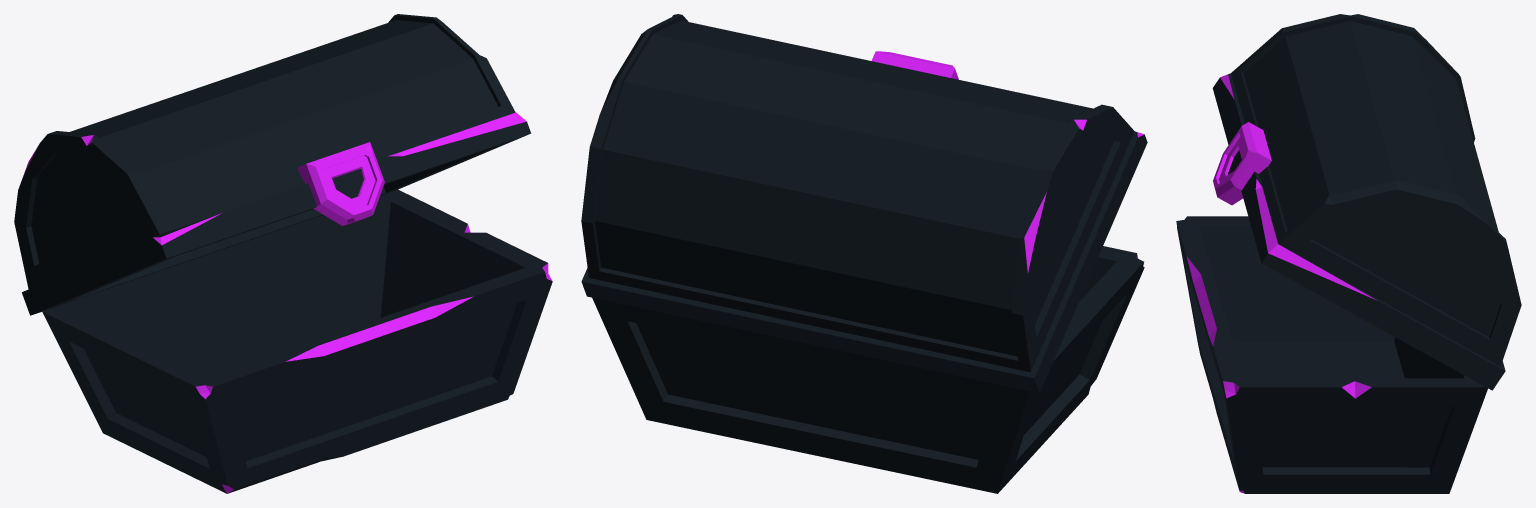
Rendered from chest.glb.
3 views of the same model, side by side, from view 1: azimuth 30°, elevation 25°; view 2: azimuth 150°, elevation 25°; view 3: azimuth 270°, elevation 25° (orthographic). The views are drawn at different scales.
Visible parts, largest first — view 1: Plane.001; view 2: Plane.001; view 3: Plane.001.
Part boxes in pixels (box(x1,y1,x2,y2)): Plane.001: box(14, 14, 552, 493); Plane.001: box(581, 14, 1147, 493); Plane.001: box(1176, 14, 1521, 493).
Bounding box in the file's own units: 4.77 × 3.74 × 3.49.
1 material, 1 textured.
